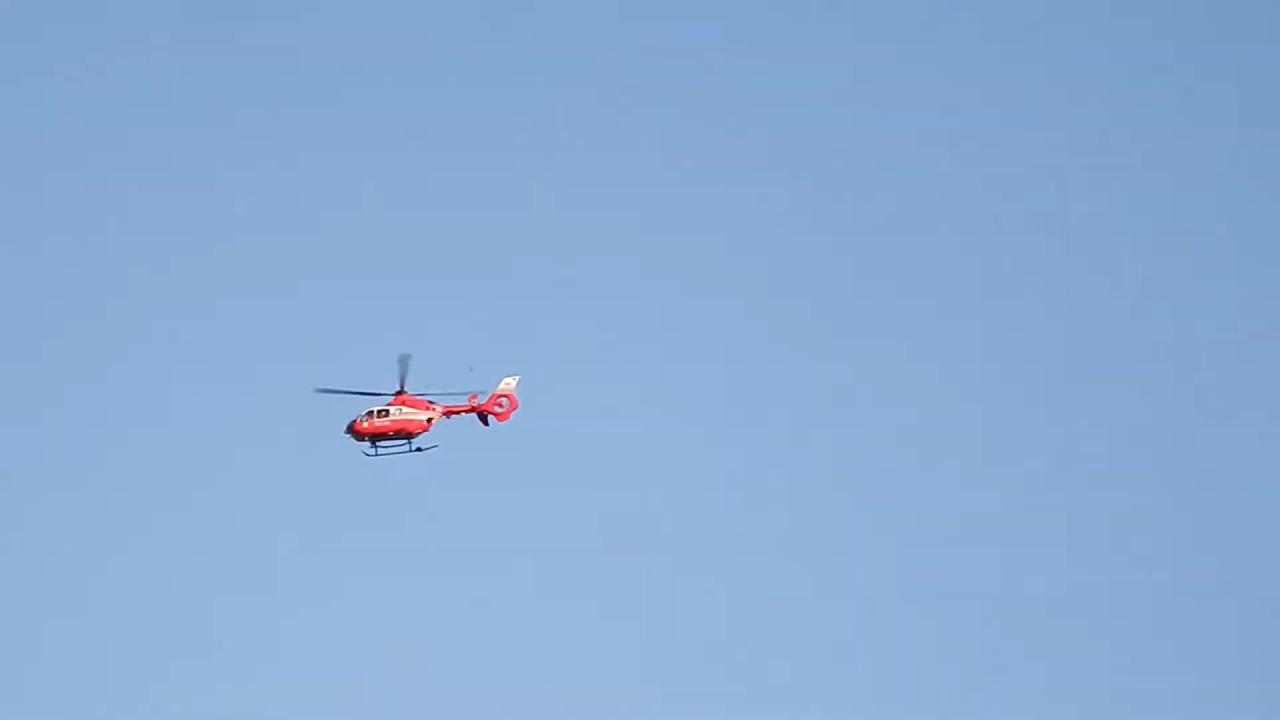Helicopter: (286, 325, 539, 492)
